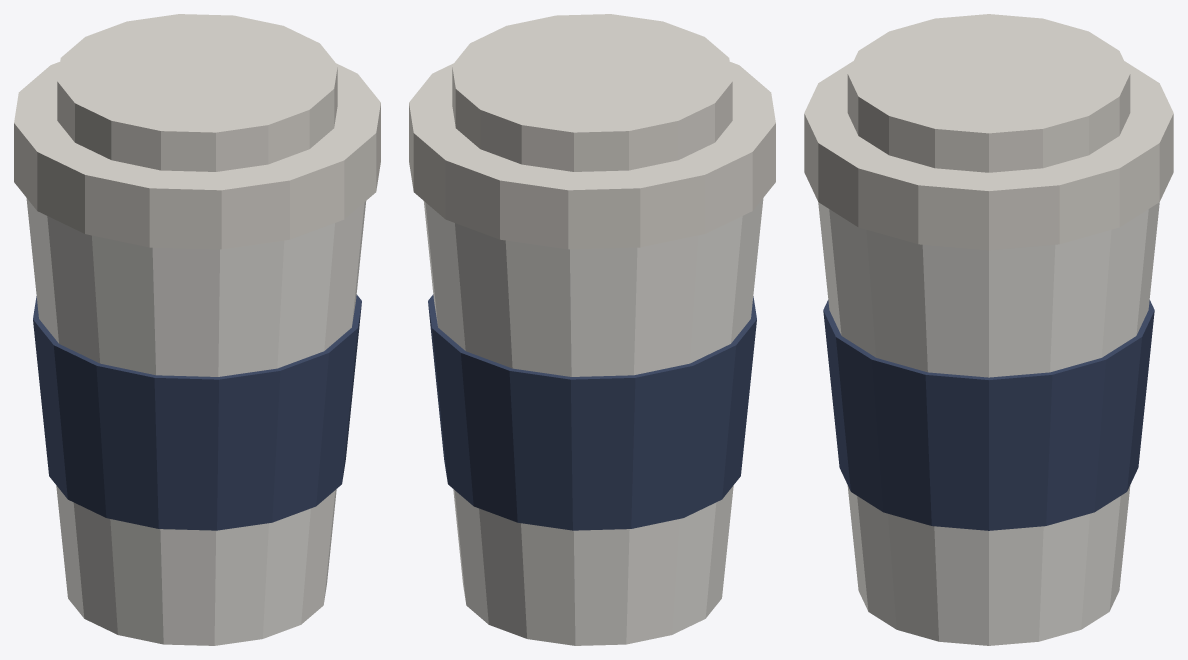
The model's file is cup.glb.
The picture shows the model from 3 angles, left to right: view 1: azimuth 30°, elevation 25°; view 2: azimuth 150°, elevation 25°; view 3: azimuth 270°, elevation 25°; orthographic projection.
Parts seen in each view (by area): view 1: Cup; view 2: Cup; view 3: Cup.
Part boxes in pixels (left/top/right/bottom): Cup: left=14, top=14, right=380, bottom=645; Cup: left=409, top=14, right=775, bottom=645; Cup: left=804, top=14, right=1173, bottom=645.
Bounding box in the file's own units: 0.068 × 0.105 × 0.068.
